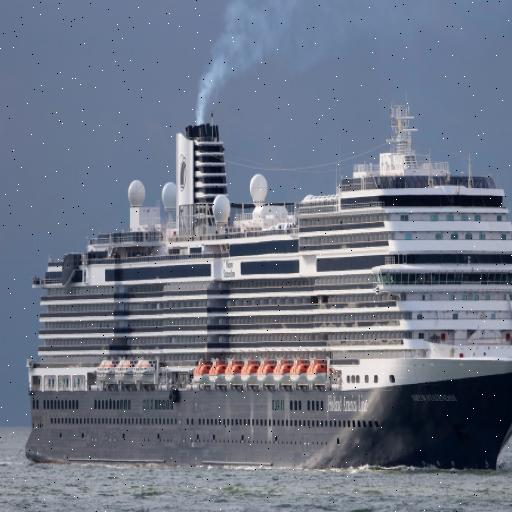cruises: (21, 88, 512, 478)
